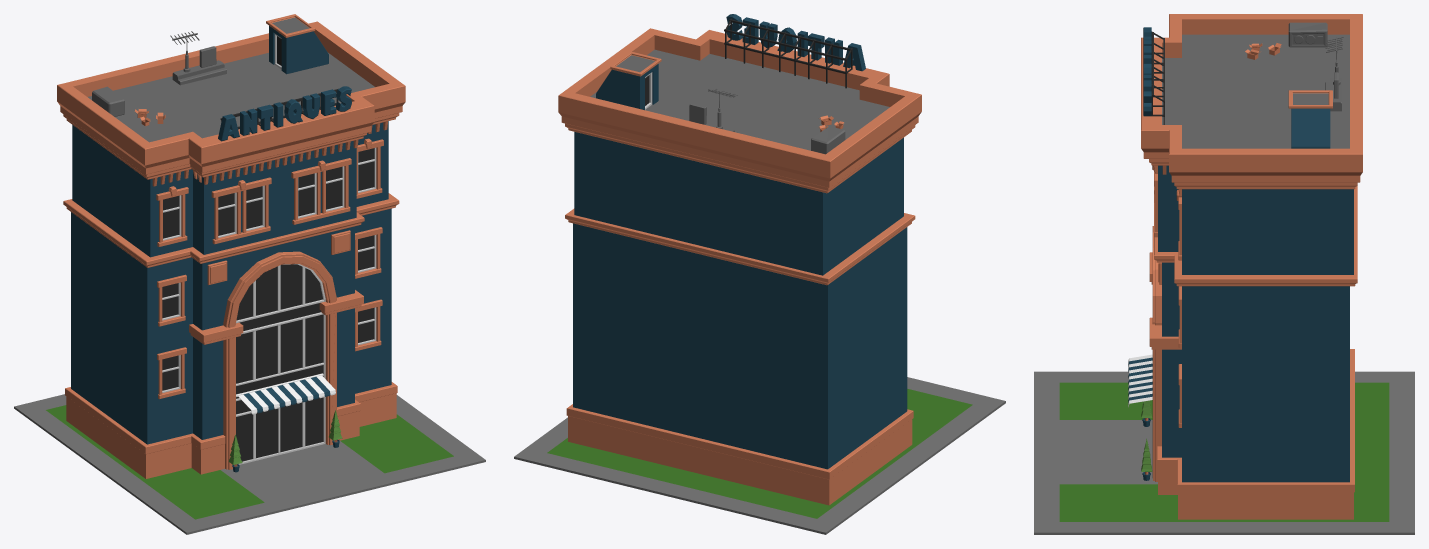
The model's file is antiques.glb.
3 renders of one model, left to right at view 1: azimuth 30°, elevation 25°; view 2: azimuth 150°, elevation 25°; view 3: azimuth 270°, elevation 25°, orthographic. The views are drawn at different scales.
Parts seen in each view (by area): view 1: antiques; view 2: antiques; view 3: antiques.
Part boxes in pixels (x1,y1,x2,y2): antiques: (14,14,485,534); antiques: (514,14,1005,534); antiques: (1034,14,1414,534).
Bounding box in the file's own units: 15 × 17.56 × 15.
Materials: 1 (1 with a texture image).
